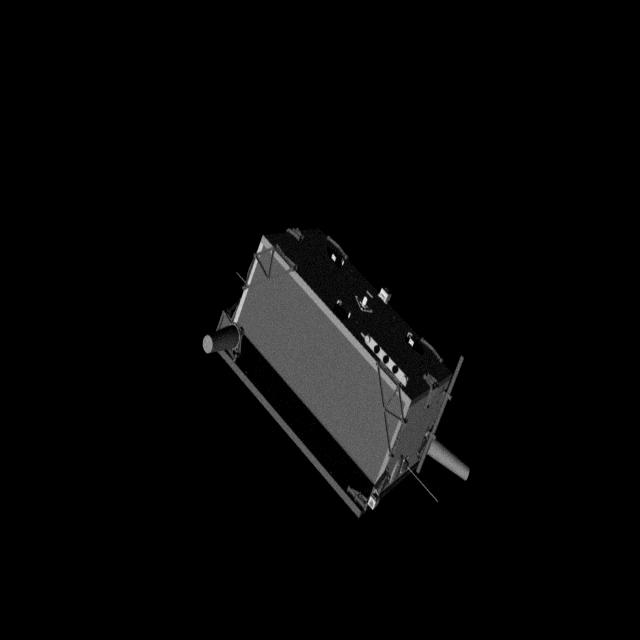satellite: (196, 216, 484, 516)
